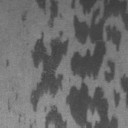red iron: (66, 0, 128, 128), (31, 31, 69, 110), (35, 0, 62, 28), (46, 106, 66, 128), (120, 74, 128, 106), (104, 60, 115, 82), (114, 90, 120, 106), (22, 10, 28, 22), (70, 0, 76, 10)
